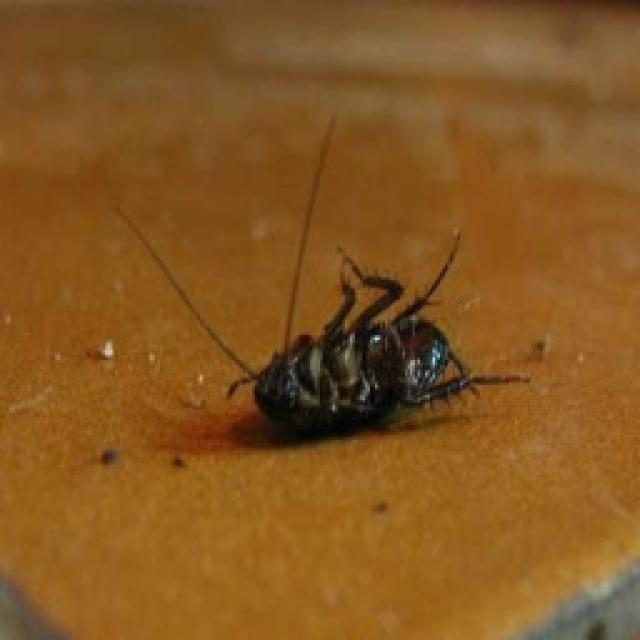cockroach: (208, 243, 500, 505)
